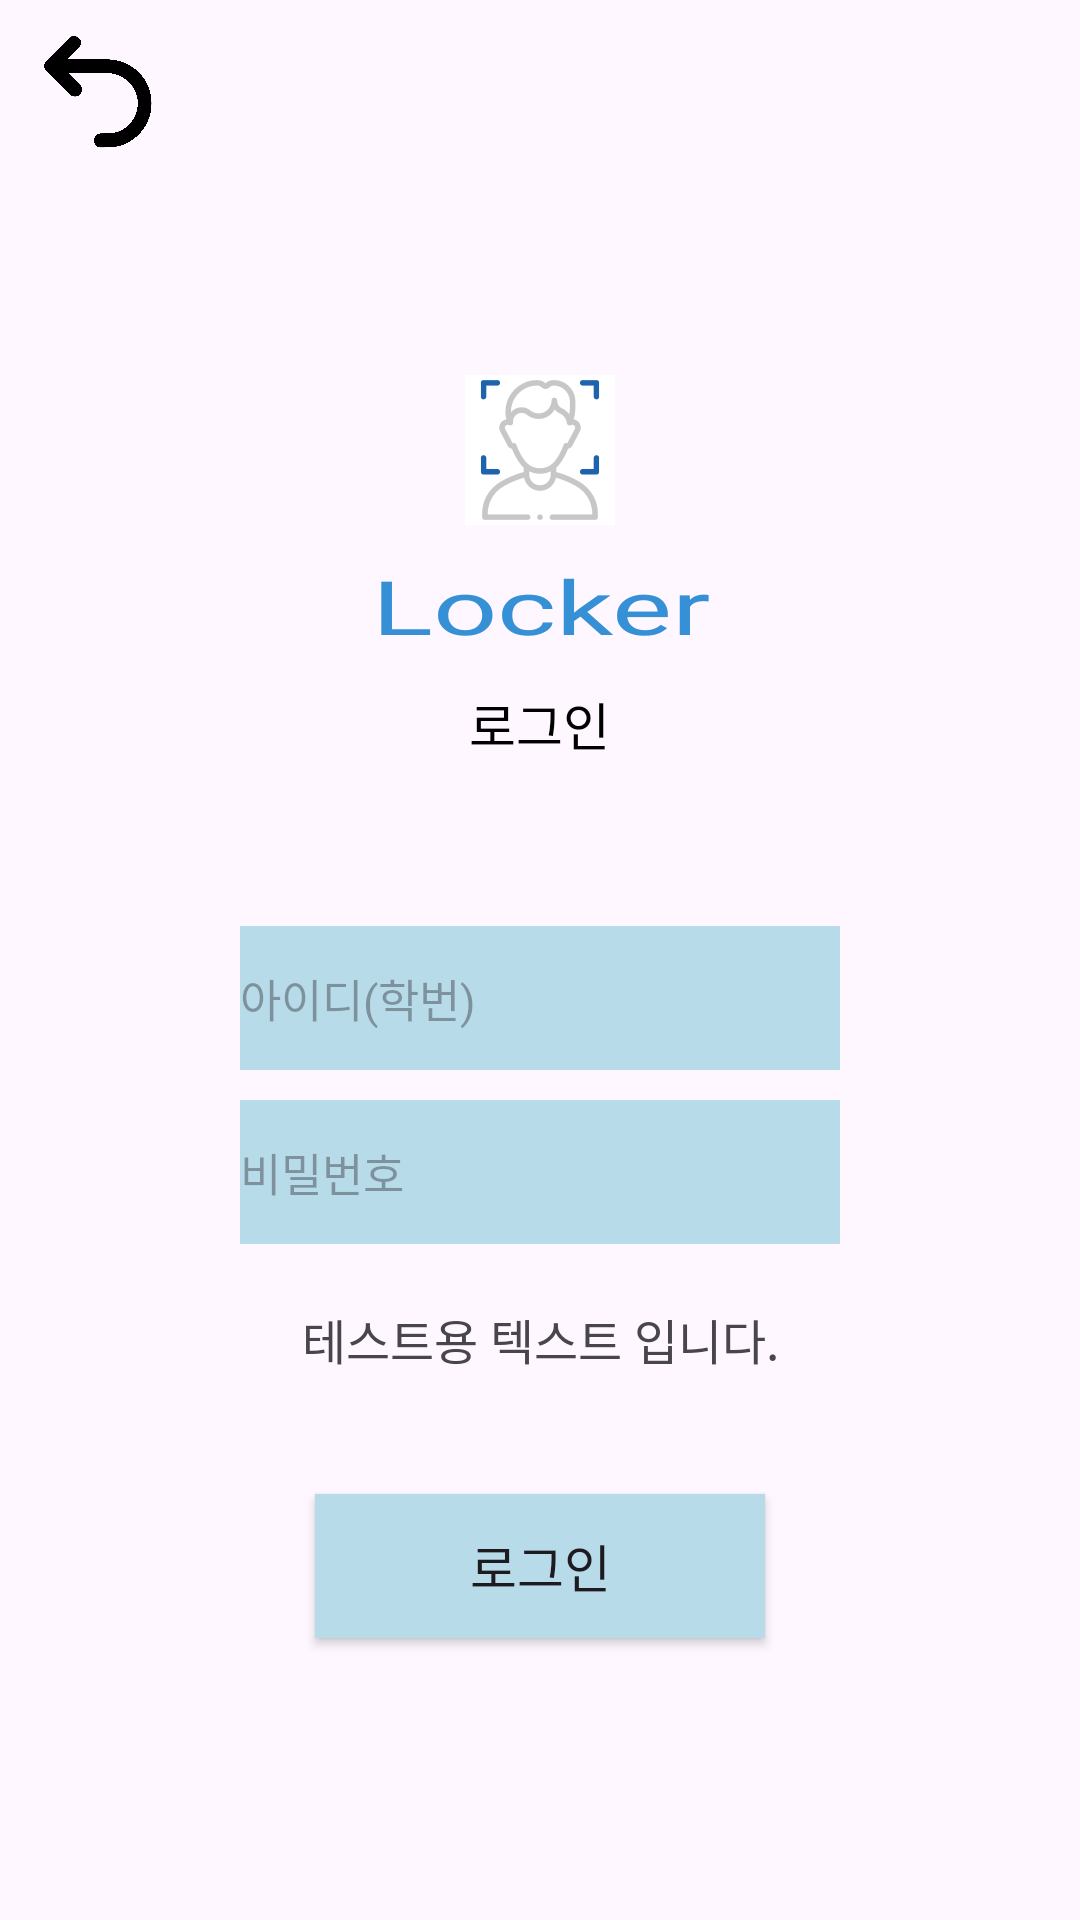

Where icons sit on this 1080*1920 app screen, as (x1, y1, x2, y2):
back: (44, 36, 152, 148)
